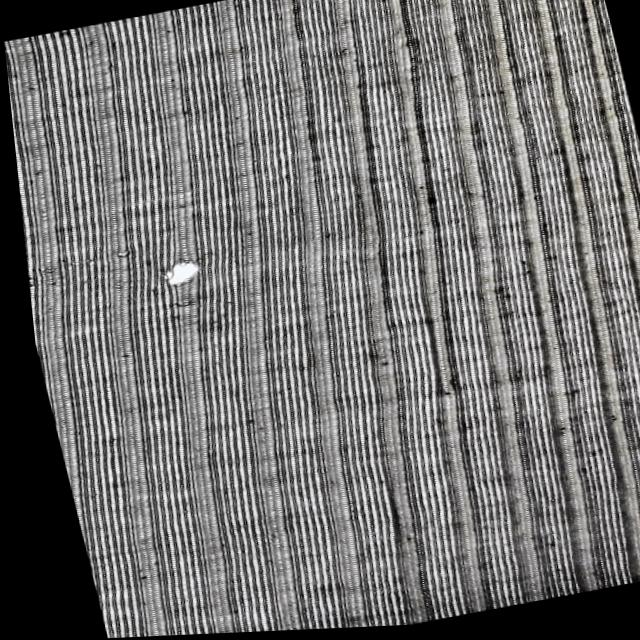Hole: (139, 248, 214, 299)
